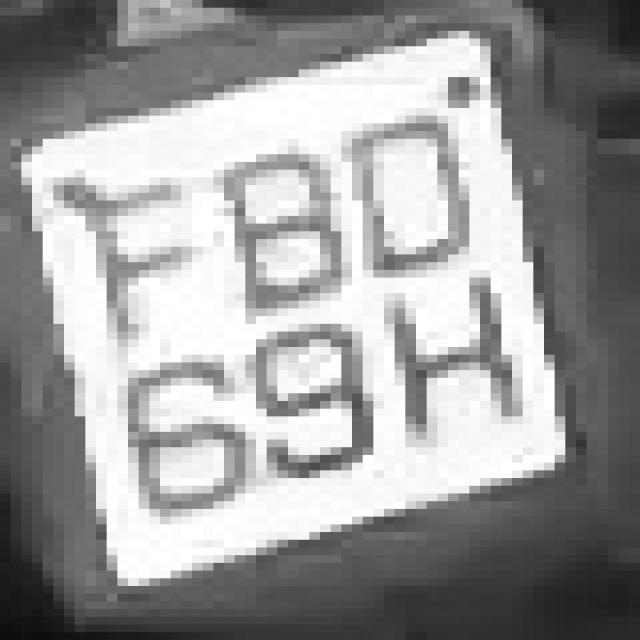6: (107, 324, 256, 516)
9: (192, 316, 395, 486)
B: (192, 138, 363, 332)
D: (320, 108, 469, 293)
F: (32, 146, 203, 340)
H: (363, 262, 544, 432)
